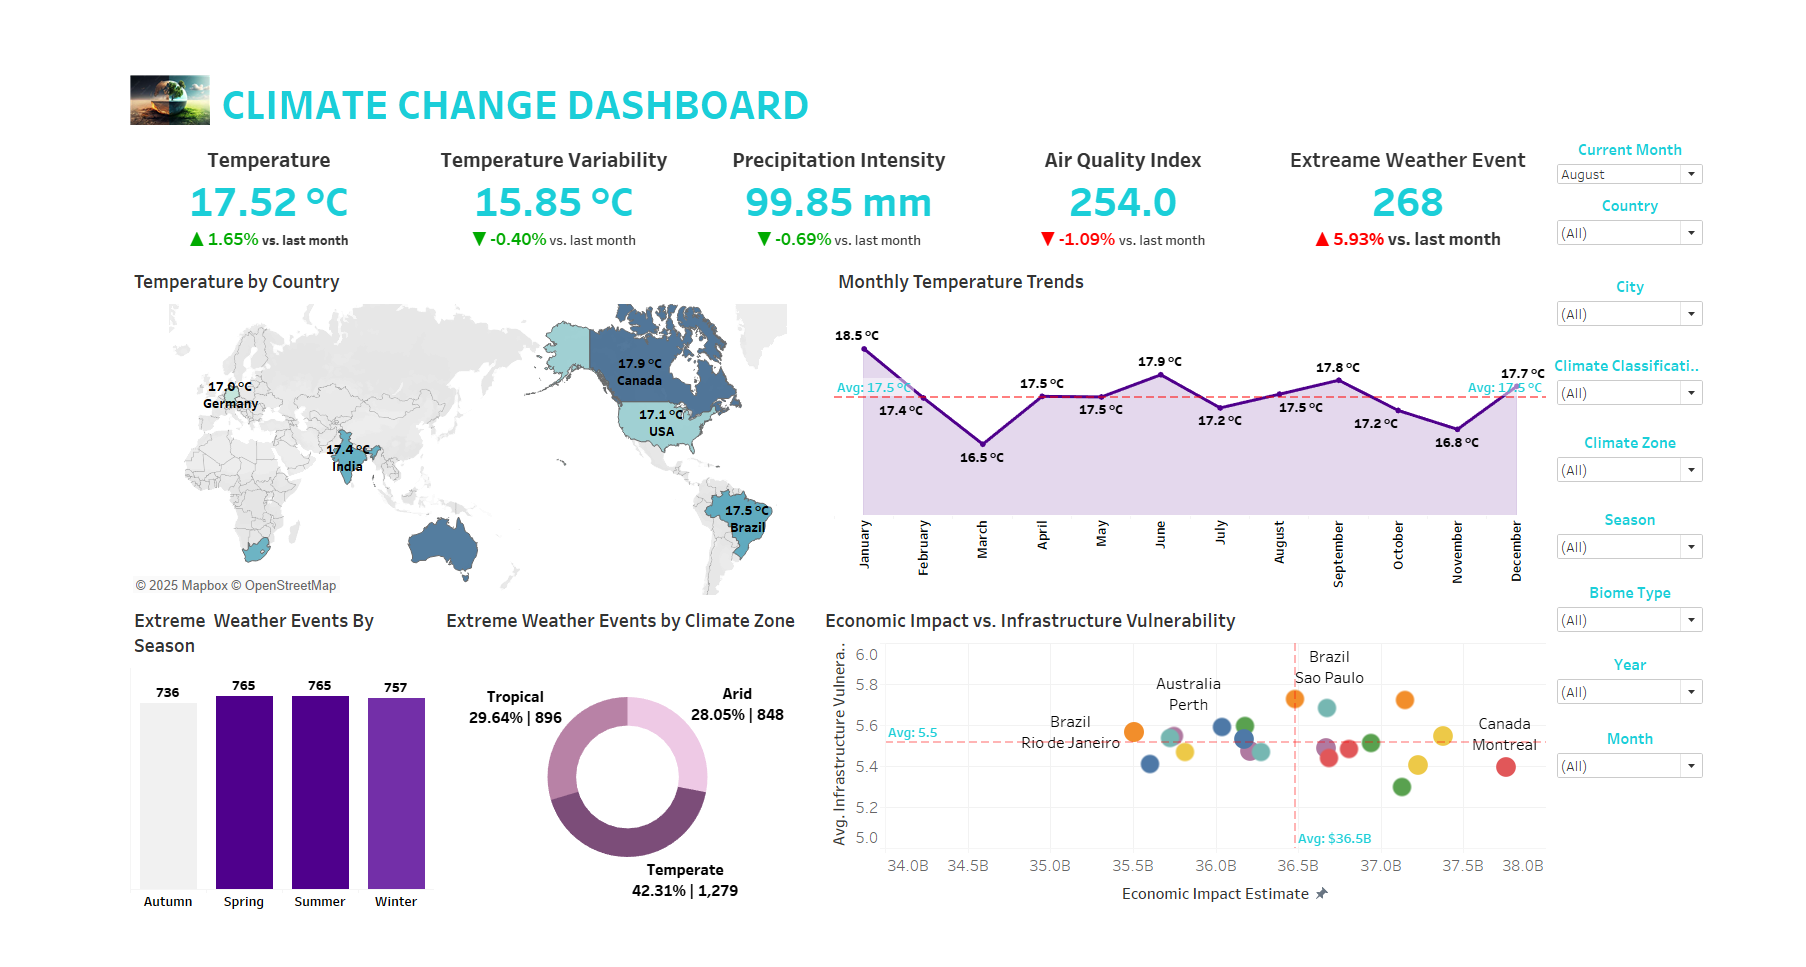

What the dashboard file says about the page in this screenshot:
{"tool":"tableau","page":{"name":"Dashboard 1","canvas":[1000,1000],"units":"permille","ordinal":0},"visuals":[{"type":"image","param":"Image/OIP (4).jpg","box":[5,10,55,74.8]},{"type":"text","box":[60,10,935,74.8]},{"type":"worksheet","title":"Temperature","mark":"Automatic","box":[5,84.8,178,144.6]},{"type":"worksheet","title":"Temperature Variability","mark":"Automatic","box":[183,84.8,178,144.6]},{"type":"worksheet","title":"Precipitation Intensity","mark":"Automatic","box":[361,84.8,178,144.6]},{"type":"worksheet","title":"AQI","mark":"Automatic","box":[539,84.8,178,144.6]},{"type":"worksheet","title":"EWE","mark":"Automatic","box":[717,84.8,178,144.6]},{"type":"filter","title":"Economic Impact vs. Infrastructure Vulnerability","param":"[federated.1po36z81f5hibf1f43kr20nqzfsb].[none:Country:nk]","box":[895,84.8,100,101]},{"type":"filter","title":"Economic Impact vs. Infrastructure Vulnerability","param":"[federated.1po36z81f5hibf1f43kr20nqzfsb].[none:City:nk]","box":[895,185.8,100,98.5]},{"type":"worksheet","title":"Temperature by Country","mark":"Automatic","box":[5,229.4,440,394]},{"type":"worksheet","title":"Monthly Temperature Trends","mark":"Area","rows":["Calculation_2292613717132378124","Calculation_2292613717132378124"],"cols":["Date"],"box":[445,229.4,450,394]},{"type":"filter","title":"Economic Impact vs. Infrastructure Vulnerability","param":"[federated.1po36z81f5hibf1f43kr20nqzfsb].[none:Climate Classification:nk]","box":[895,284.3,100,96]},{"type":"filter","title":"Economic Impact vs. Infrastructure Vulnerability","param":"[federated.1po36z81f5hibf1f43kr20nqzfsb].[none:Climate Zone:nk]","box":[895,380.3,100,96]},{"type":"filter","title":"Economic Impact vs. Infrastructure Vulnerability","param":"[federated.1po36z81f5hibf1f43kr20nqzfsb].[none:Season:nk]","box":[895,476.3,100,91]},{"type":"filter","title":"Economic Impact vs. Infrastructure Vulnerability","param":"[federated.1po36z81f5hibf1f43kr20nqzfsb].[none:Biome Type:nk]","box":[895,567.4,100,89.8]},{"type":"worksheet","title":"Extreme  Weather Events By Season","mark":"Automatic","rows":["Calculation_25332777997070336"],"cols":["Season"],"box":[5,623.4,208.1,366.6]},{"type":"worksheet","title":"Extreme Weather Events by Climate Zone","mark":"Pie","rows":["Calculation_1503920843296768011","Calculation_1503920843296768011"],"box":[213.1,623.4,223.5,366.6]},{"type":"worksheet","title":"Economic Impact vs. Infrastructure Vulnerability","mark":"Circle","rows":["Infrastructure Vulnerability Score"],"cols":["Economic Impact Estimate"],"box":[436.6,623.4,458.4,366.6]},{"type":"filter","title":"Economic Impact vs. Infrastructure Vulnerability","param":"[federated.1po36z81f5hibf1f43kr20nqzfsb].[mn:Date:ok]","box":[895,657.1,100,98.5]},{"type":"filter","title":"Economic Impact vs. Infrastructure Vulnerability","param":"[federated.1po36z81f5hibf1f43kr20nqzfsb].[yr:Date:ok]","box":[895,755.6,100,76.1]}]}

Visuals, with their boxes on the dashboard's canvas, which has no fixed pixel size, in thousandths of its width and height (x1, y1, x2, y2). These are canvas units, not pixel positions in the 1806x967 screenshot, which may show the page scaled, cropped or inside an application window:
image: left=5, top=10, right=60, bottom=85
text: left=60, top=10, right=995, bottom=85
"Temperature" worksheet: left=5, top=85, right=183, bottom=229
"Temperature Variability" worksheet: left=183, top=85, right=361, bottom=229
"Precipitation Intensity" worksheet: left=361, top=85, right=539, bottom=229
"AQI" worksheet: left=539, top=85, right=717, bottom=229
"EWE" worksheet: left=717, top=85, right=895, bottom=229
"Economic Impact vs. Infrastructure Vulnerability" filter: left=895, top=85, right=995, bottom=186
"Economic Impact vs. Infrastructure Vulnerability" filter: left=895, top=186, right=995, bottom=284
"Temperature by Country" worksheet: left=5, top=229, right=445, bottom=623
"Monthly Temperature Trends" worksheet (Area marks): left=445, top=229, right=895, bottom=623
"Economic Impact vs. Infrastructure Vulnerability" filter: left=895, top=284, right=995, bottom=380
"Economic Impact vs. Infrastructure Vulnerability" filter: left=895, top=380, right=995, bottom=476
"Economic Impact vs. Infrastructure Vulnerability" filter: left=895, top=476, right=995, bottom=567
"Economic Impact vs. Infrastructure Vulnerability" filter: left=895, top=567, right=995, bottom=657
"Extreme  Weather Events By Season" worksheet: left=5, top=623, right=213, bottom=990
"Extreme Weather Events by Climate Zone" worksheet (Pie marks): left=213, top=623, right=437, bottom=990
"Economic Impact vs. Infrastructure Vulnerability" worksheet (Circle marks): left=437, top=623, right=895, bottom=990
"Economic Impact vs. Infrastructure Vulnerability" filter: left=895, top=657, right=995, bottom=756
"Economic Impact vs. Infrastructure Vulnerability" filter: left=895, top=756, right=995, bottom=832
